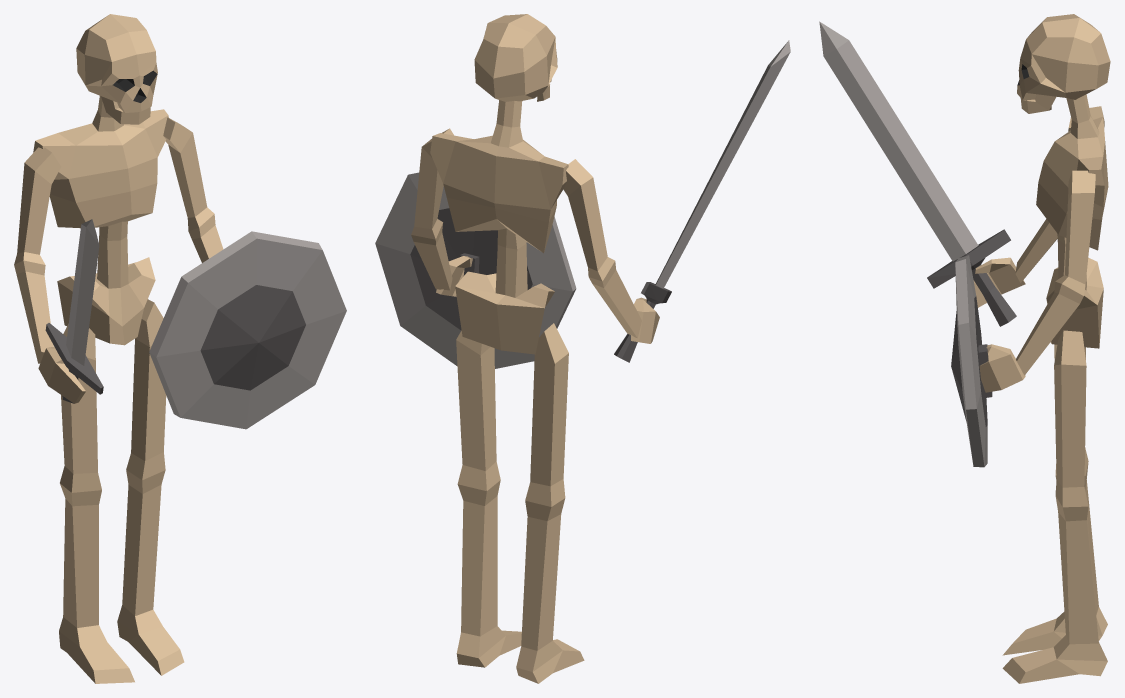
The model's file is people-skeleton-soldier.glb.
3 views of the same model, side by side, from view 1: azimuth 30°, elevation 25°; view 2: azimuth 150°, elevation 25°; view 3: azimuth 270°, elevation 25° (orthographic).
Visible parts, largest first — view 1: skeleton-soldier; view 2: skeleton-soldier; view 3: skeleton-soldier.
Boxes of the visible parts, x1,y1,x2,y2 form: skeleton-soldier: [14, 14, 346, 683]; skeleton-soldier: [375, 14, 790, 683]; skeleton-soldier: [819, 14, 1110, 683].
Size of the model in its own units: 0.9986 by 1.83 by 0.7486.
